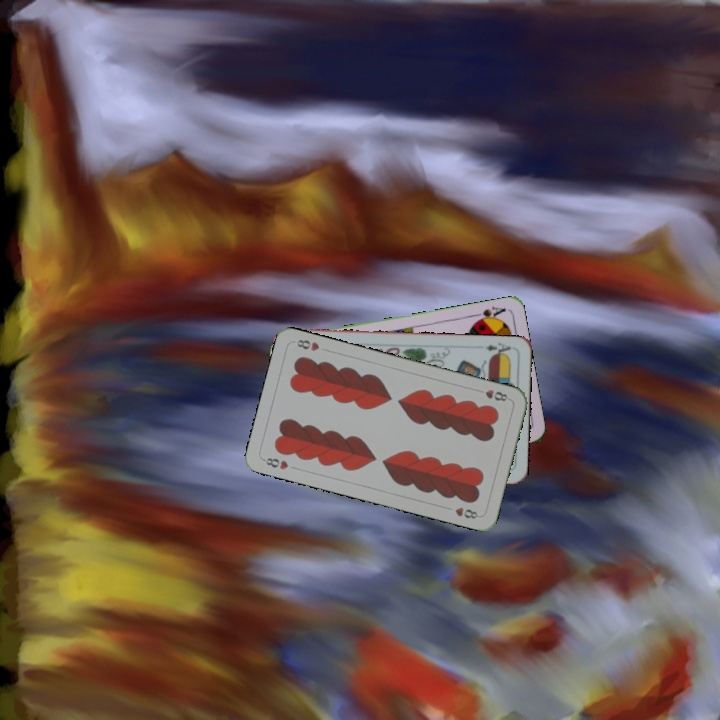EA: (481, 339, 513, 359)
H8: (259, 454, 291, 472), (481, 385, 510, 404)
SA: (468, 302, 508, 326)
